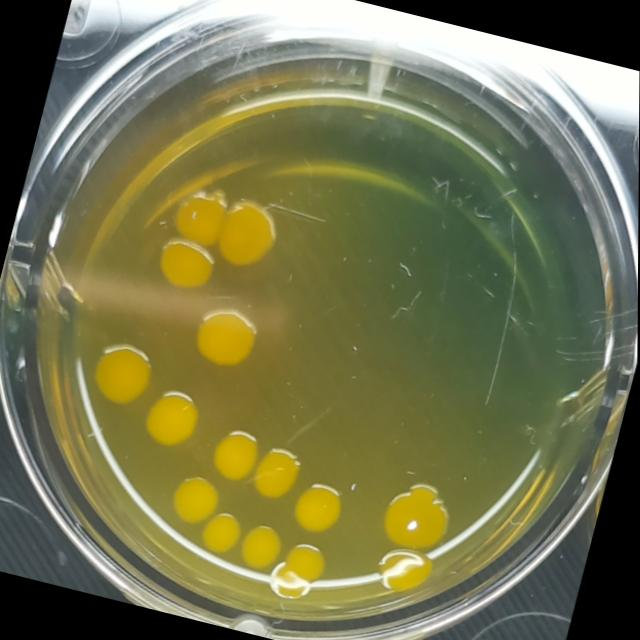vibrio: (372, 471, 464, 558), (209, 190, 288, 278), (184, 299, 268, 376), (85, 334, 160, 412), (134, 379, 207, 457), (164, 176, 234, 252), (266, 534, 334, 606), (147, 232, 218, 299), (369, 540, 439, 602), (244, 438, 306, 506), (287, 476, 351, 539), (190, 499, 248, 562), (162, 467, 220, 529), (206, 422, 262, 486), (235, 518, 288, 574)
